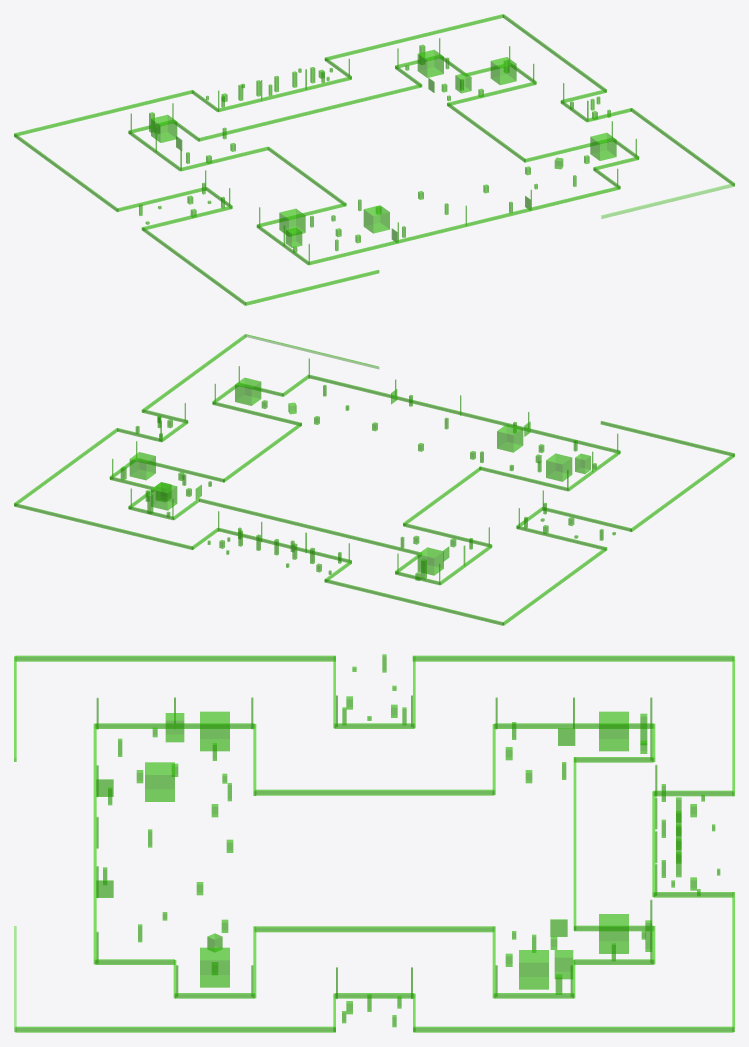
Rendered from track_03_collider.glb.
3 views of the same model, one above another, from view 1: azimuth 30°, elevation 25°; view 2: azimuth 150°, elevation 25°; view 3: azimuth 270°, elevation 25° (orthographic). The views are drawn at different scales.
Parts seen in each view (by area): view 1: Box_collider.107_collider, Box_collider.095_collider, Box_collider.108_collider, Box_collider.105_collider, Box_collider.106_collider, Box_collider.096_collider, light2_collider, Box_collider.187_collider, Box_collider.188_collider, Box_collider.189_collider, Box_collider.186_collider, Box_collider.185_collider (+2 smaller); view 2: Box_collider.107_collider, Box_collider.095_collider, Box_collider.105_collider, Box_collider.106_collider, Box_collider.108_collider, light2_collider, Box_collider.096_collider, Box_collider.188_collider, Box_collider.189_collider, Box_collider.187_collider, Box_collider.184_collider, Box_collider.185_collider (+2 smaller); view 3: Box_collider.105_collider, Box_collider.106_collider, light2_collider, Box_collider.194_collider, Box_collider.094_collider, Box_collider.187_collider, Box_collider.186_collider, Box_collider.185_collider, Box_collider.189_collider, Box_collider.188_collider, Box_collider.184_collider, Box_collider.095_collider (+5 smaller).
Boxes of the visible parts, bbox=[...] form: Box_collider.107_collider: bbox=[14, 14, 503, 136]; Box_collider.095_collider: bbox=[308, 186, 620, 265]; Box_collider.108_collider: bbox=[245, 183, 734, 305]; Box_collider.105_collider: bbox=[14, 133, 245, 305]; Box_collider.106_collider: bbox=[503, 14, 734, 186]; Box_collider.096_collider: bbox=[199, 84, 421, 141]; light2_collider: bbox=[130, 38, 636, 261]; Box_collider.187_collider: bbox=[590, 132, 616, 160]; Box_collider.188_collider: bbox=[490, 57, 516, 85]; Box_collider.189_collider: bbox=[417, 50, 443, 77]; Box_collider.186_collider: bbox=[151, 114, 177, 142]; Box_collider.185_collider: bbox=[279, 208, 305, 236]; Box_collider.107_collider: bbox=[14, 503, 503, 625]; Box_collider.095_collider: bbox=[308, 375, 619, 453]; Box_collider.105_collider: bbox=[503, 453, 734, 625]; Box_collider.106_collider: bbox=[14, 334, 246, 505]; Box_collider.108_collider: bbox=[245, 334, 734, 456]; light2_collider: bbox=[112, 358, 618, 581]; Box_collider.096_collider: bbox=[199, 498, 420, 554]; Box_collider.188_collider: bbox=[129, 452, 155, 480]; Box_collider.189_collider: bbox=[151, 482, 177, 510]; Box_collider.187_collider: bbox=[235, 378, 261, 405]; Box_collider.184_collider: bbox=[497, 424, 523, 452]; Box_collider.185_collider: bbox=[546, 453, 572, 481]; Box_collider.105_collider: bbox=[15, 655, 733, 661]; Box_collider.106_collider: bbox=[15, 1026, 733, 1032]; light2_collider: bbox=[96, 695, 657, 998]; Box_collider.194_collider: bbox=[254, 789, 494, 795]; Box_collider.094_collider: bbox=[254, 926, 493, 932]; Box_collider.187_collider: bbox=[200, 947, 229, 987]; Box_collider.186_collider: bbox=[599, 711, 628, 751]; Box_collider.185_collider: bbox=[200, 711, 229, 751]; Box_collider.189_collider: bbox=[599, 914, 628, 953]; Box_collider.188_collider: bbox=[519, 950, 548, 989]; Box_collider.184_collider: bbox=[145, 762, 174, 801]; Box_collider.095_collider: bbox=[93, 723, 96, 964].
Size of the model in its own units: 177 by 10.41 by 145.
